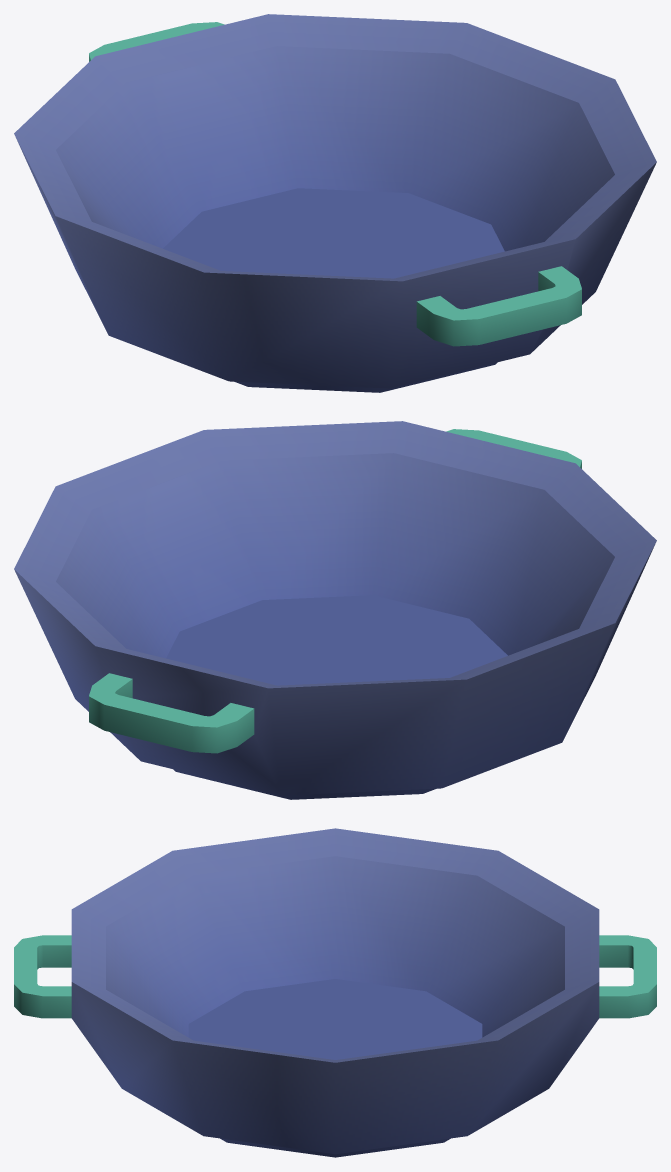
File: pan.glb
3 renders of one model, top to bottom at view 1: azimuth 30°, elevation 25°; view 2: azimuth 150°, elevation 25°; view 3: azimuth 270°, elevation 25°, orthographic. The views are drawn at different scales.
Visible parts, largest first — view 1: pan; view 2: pan; view 3: pan.
Part boxes in pixels (left/top/right/bottom): pan: left=14, top=14, right=656, bottom=392; pan: left=14, top=421, right=656, bottom=799; pan: left=14, top=828, right=656, bottom=1157.
Bounding box in the file's own units: 0.6574 × 0.1753 × 0.7621.
Materials: 1 (1 with a texture image).
